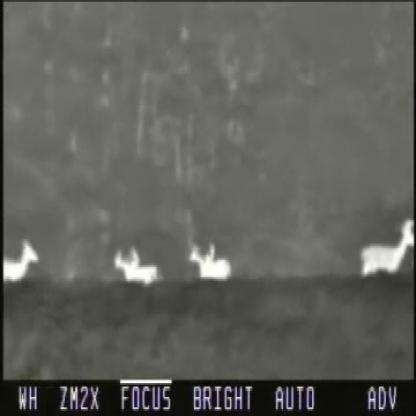rehkitze: (357, 221, 413, 279), (184, 243, 233, 280), (110, 249, 160, 284), (2, 243, 40, 286)
